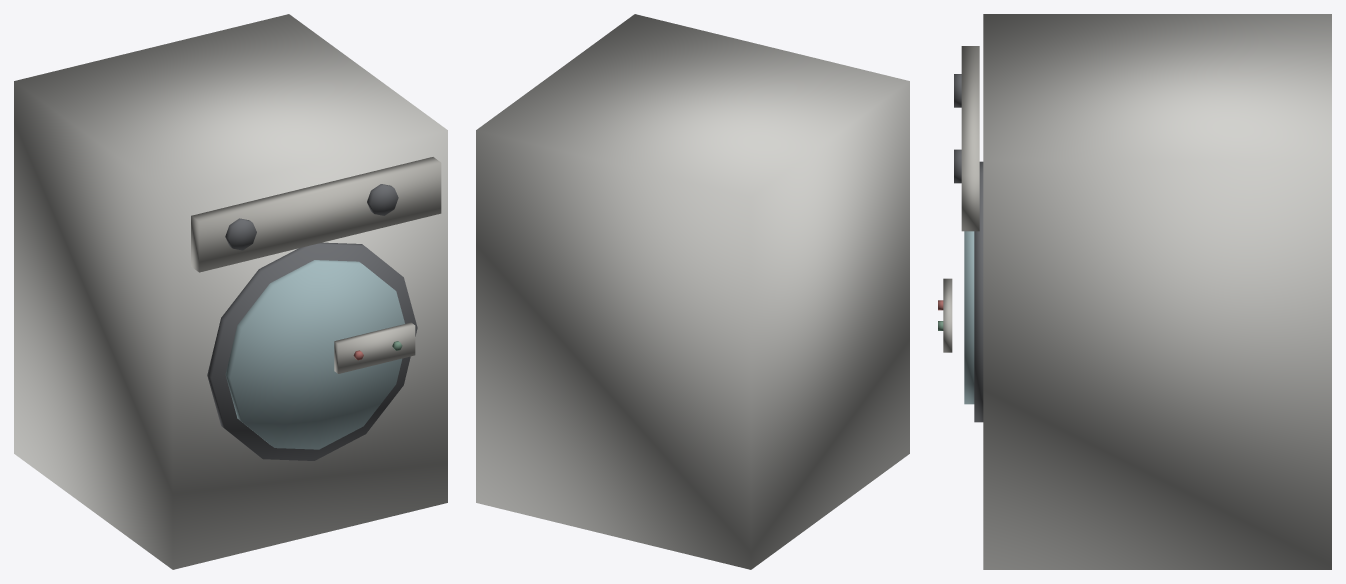
Rendered from domestic_washer.glb.
The picture shows the model from 3 angles, left to right: view 1: azimuth 30°, elevation 25°; view 2: azimuth 150°, elevation 25°; view 3: azimuth 270°, elevation 25°; orthographic projection. The views are drawn at different scales.
Parts seen in each view (by area): view 1: world; view 2: world; view 3: world.
Part boxes in pixels (x1,y1,x2,y2): world: [14, 14, 447, 569]; world: [476, 14, 909, 569]; world: [938, 14, 1331, 569].
Bounding box in the file's own units: 0.68 × 0.88 × 0.7685.
